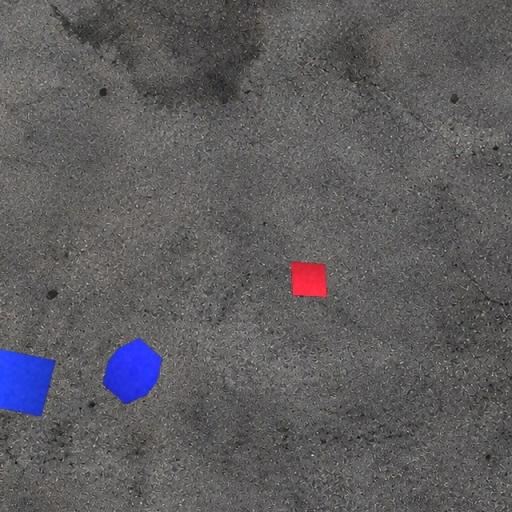BLUE_SQUARE: (0, 346, 57, 417)
RED_SQUARE: (290, 260, 328, 298)
